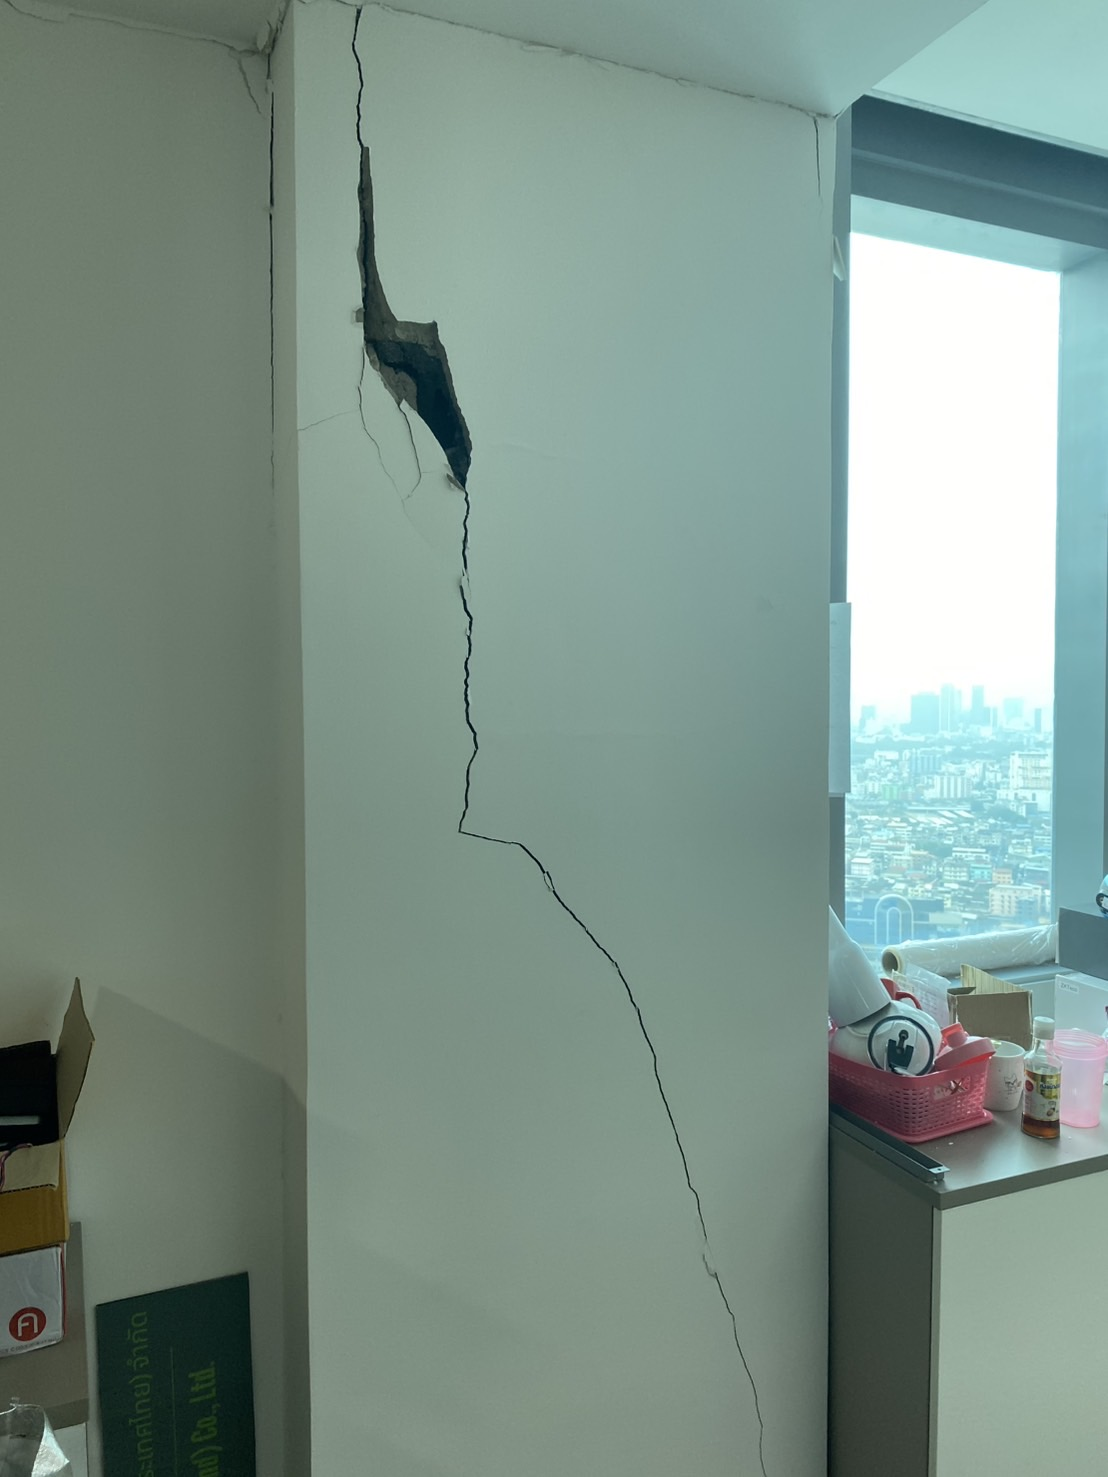High: (241, 3, 802, 1477)
